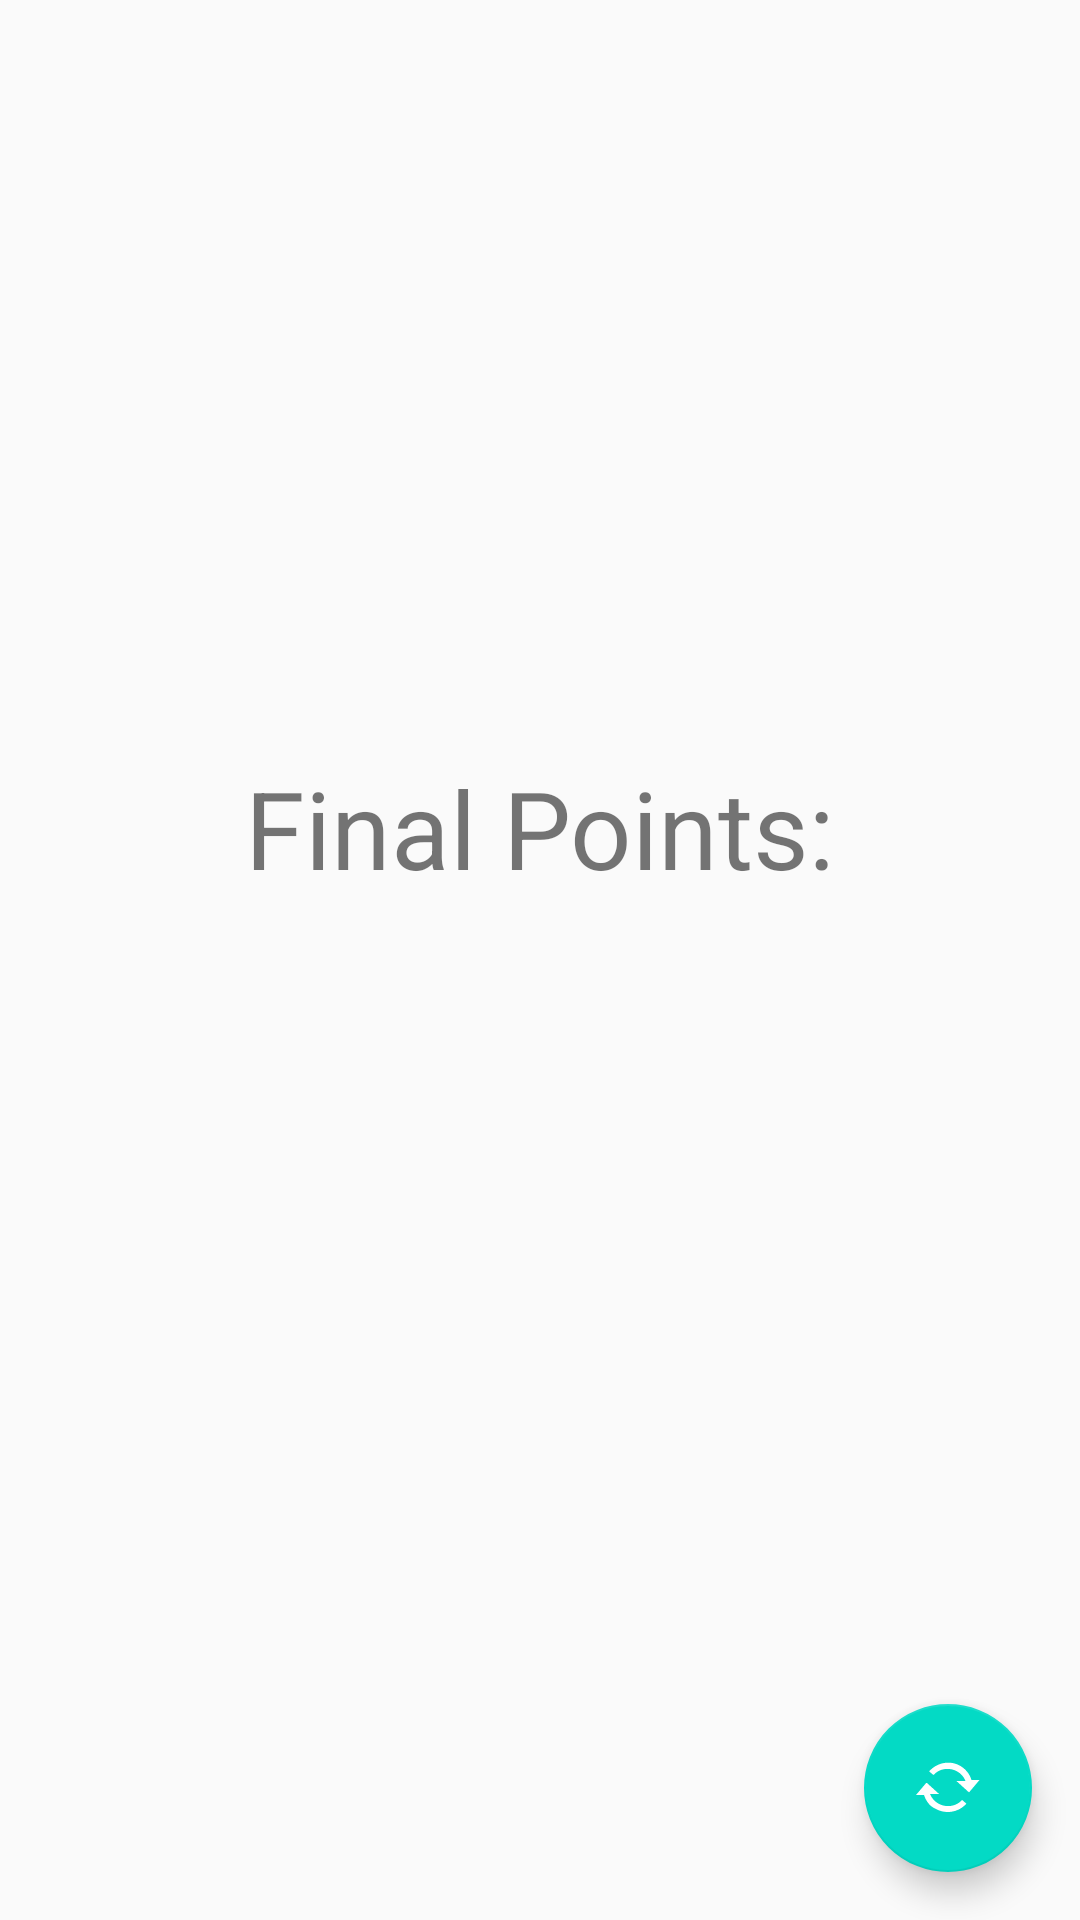

Icon click points for this 1080px×1920px phone screenshot, format [x,y]:
sync: [948,1788]
